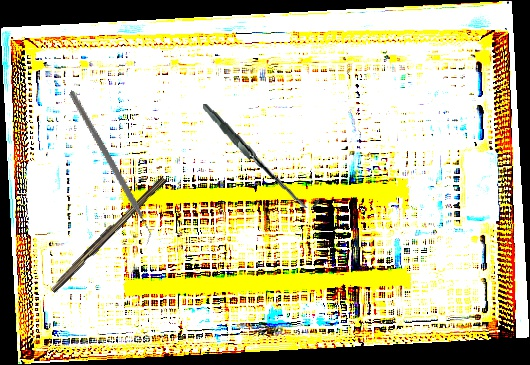Chopper: (22, 90, 195, 248)
Hook Surgical: (202, 95, 320, 216)
Scalpel Handle: (47, 172, 168, 296)
